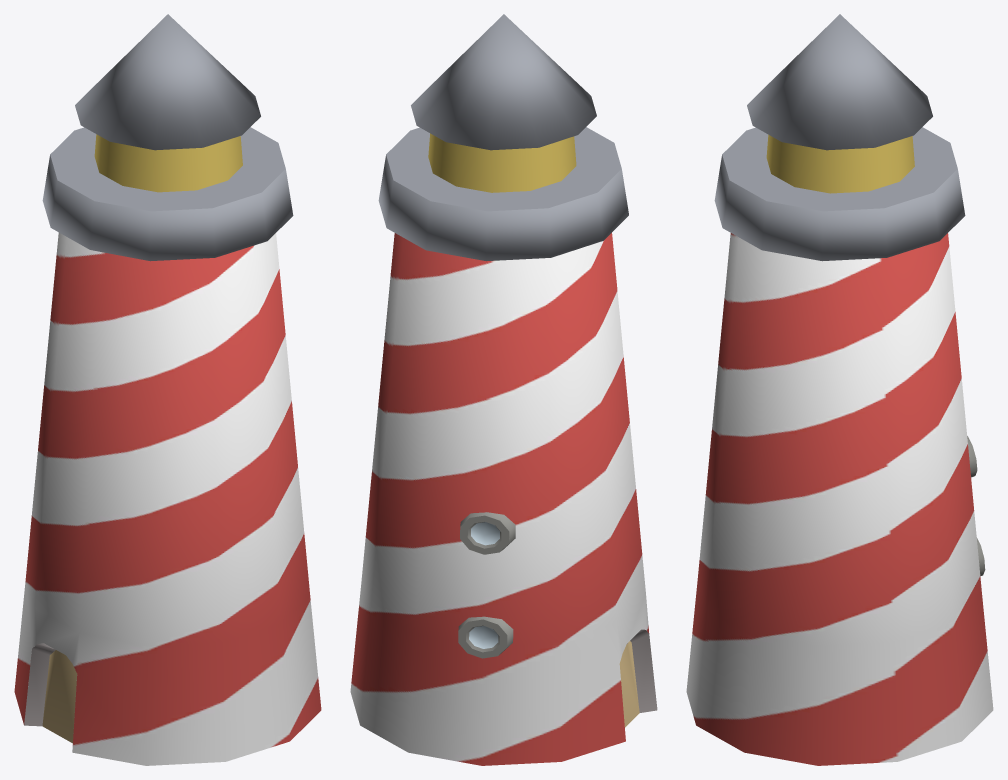
File: Light House.obj
3 renders of one model, left to right at view 1: azimuth 30°, elevation 25°; view 2: azimuth 150°, elevation 25°; view 3: azimuth 270°, elevation 25°, orthographic.
Visible parts, largest first — view 1: polygon2, polygon5, polygon6, polygon4, polygon3; view 2: polygon2, polygon5, polygon6, polygon0, polygon3, polygon4; view 3: polygon2, polygon5, polygon6.
Boxes of the visible parts, box(x1,y1,x2,y2) form: polygon2: box(14, 232, 321, 765); polygon5: box(42, 14, 293, 261); polygon6: box(94, 134, 242, 192); polygon4: box(42, 650, 77, 743); polygon3: box(24, 643, 77, 726); polygon2: box(350, 233, 649, 765); polygon5: box(378, 14, 628, 261); polygon6: box(428, 133, 576, 192); polygon0: box(458, 512, 515, 658); polygon3: box(627, 629, 657, 712); polygon4: box(619, 641, 639, 727); polygon2: box(686, 233, 993, 765); polygon5: box(714, 14, 965, 261); polygon6: box(766, 134, 914, 193).
Size of the model in its own units: 0.6067 by 1.5 by 0.6066.
6 materials, 6 textured.
